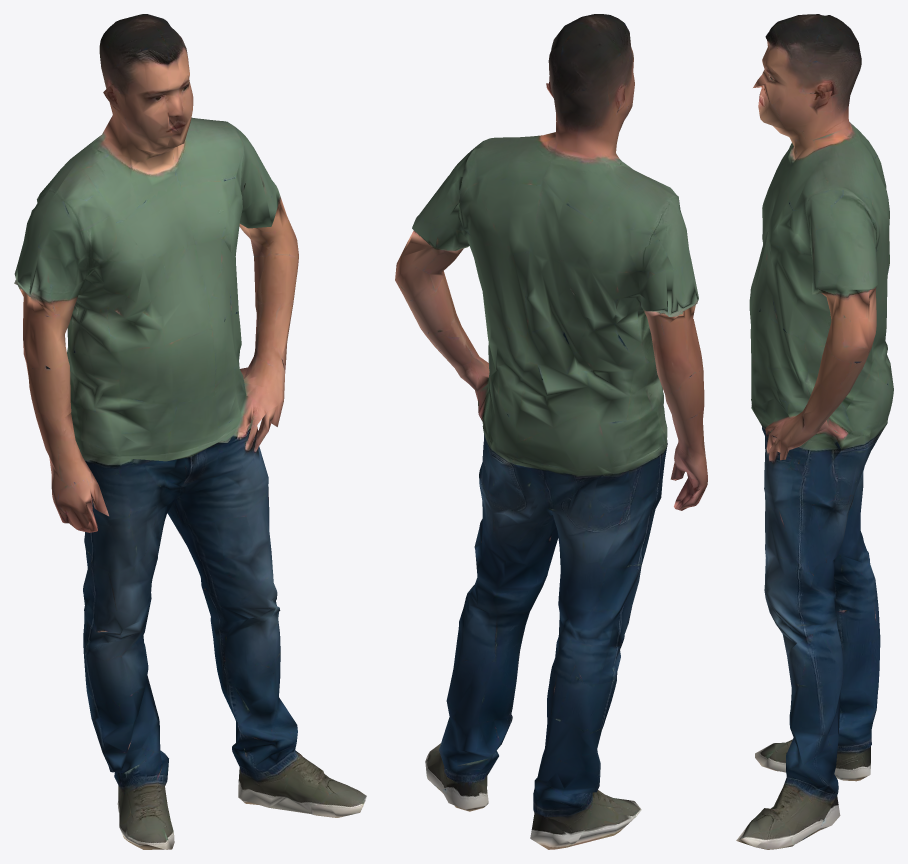
File: person3.glb
3 renders of one model, left to right at view 1: azimuth 30°, elevation 25°; view 2: azimuth 150°, elevation 25°; view 3: azimuth 270°, elevation 25°, orthographic. The views are drawn at different scales.
Parts seen in each view (by area): view 1: Object_5; view 2: Object_5; view 3: Object_5.
Boxes of the visible parts, x1=… form: Object_5: x1=14, y1=14, x2=366, y2=849; Object_5: x1=395, y1=14, x2=707, y2=849; Object_5: x1=736, y1=14, x2=893, y2=849.
Bounding box in the file's own units: 0.737 × 1.9 × 0.3611.
Materials: 1 (1 with a texture image).
